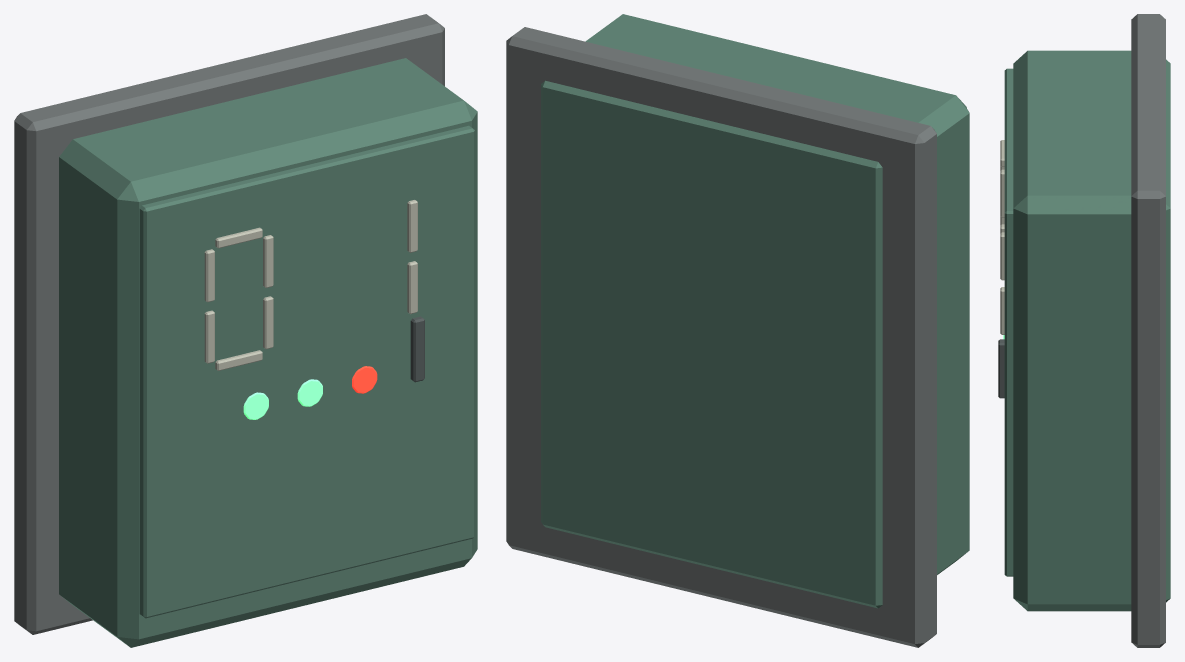
The model's file is runtime.glb.
The picture shows the model from 3 angles, left to right: view 1: azimuth 30°, elevation 25°; view 2: azimuth 150°, elevation 25°; view 3: azimuth 270°, elevation 25°; orthographic projection. The views are drawn at different scales.
Visible parts, largest first — view 1: reactor-control-box-v01_nocol; view 2: reactor-control-box-v01_nocol; view 3: reactor-control-box-v01_nocol.
Boxes of the visible parts, box(x1,y1,x2,y2) form: reactor-control-box-v01_nocol: box(14, 14, 477, 647); reactor-control-box-v01_nocol: box(506, 14, 969, 647); reactor-control-box-v01_nocol: box(998, 14, 1170, 647).
Bounding box in the file's own units: 1.97 × 2.31 × 0.7893.
